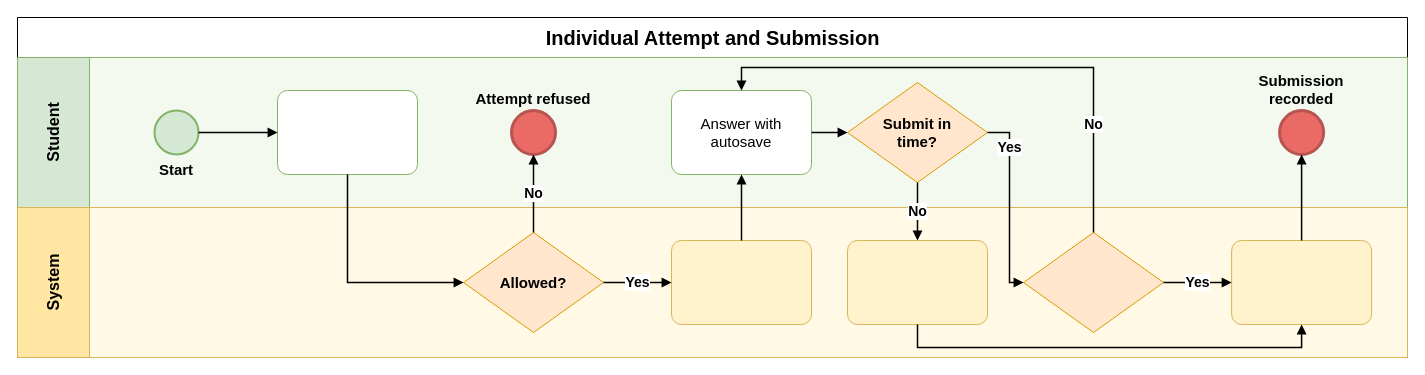
This 1425x375 diagram has some shape labels left out. The centre of each missing label's shape, as x and y in pixels:
Answers valid?: the point at 1093,282
Auto-submit last draft at deadline: the point at 917,282
Create attempt with deadline: the point at 741,282
Freeze, issue receipt, auto-score: the point at 1301,282
Start an attempt: the point at 347,132
